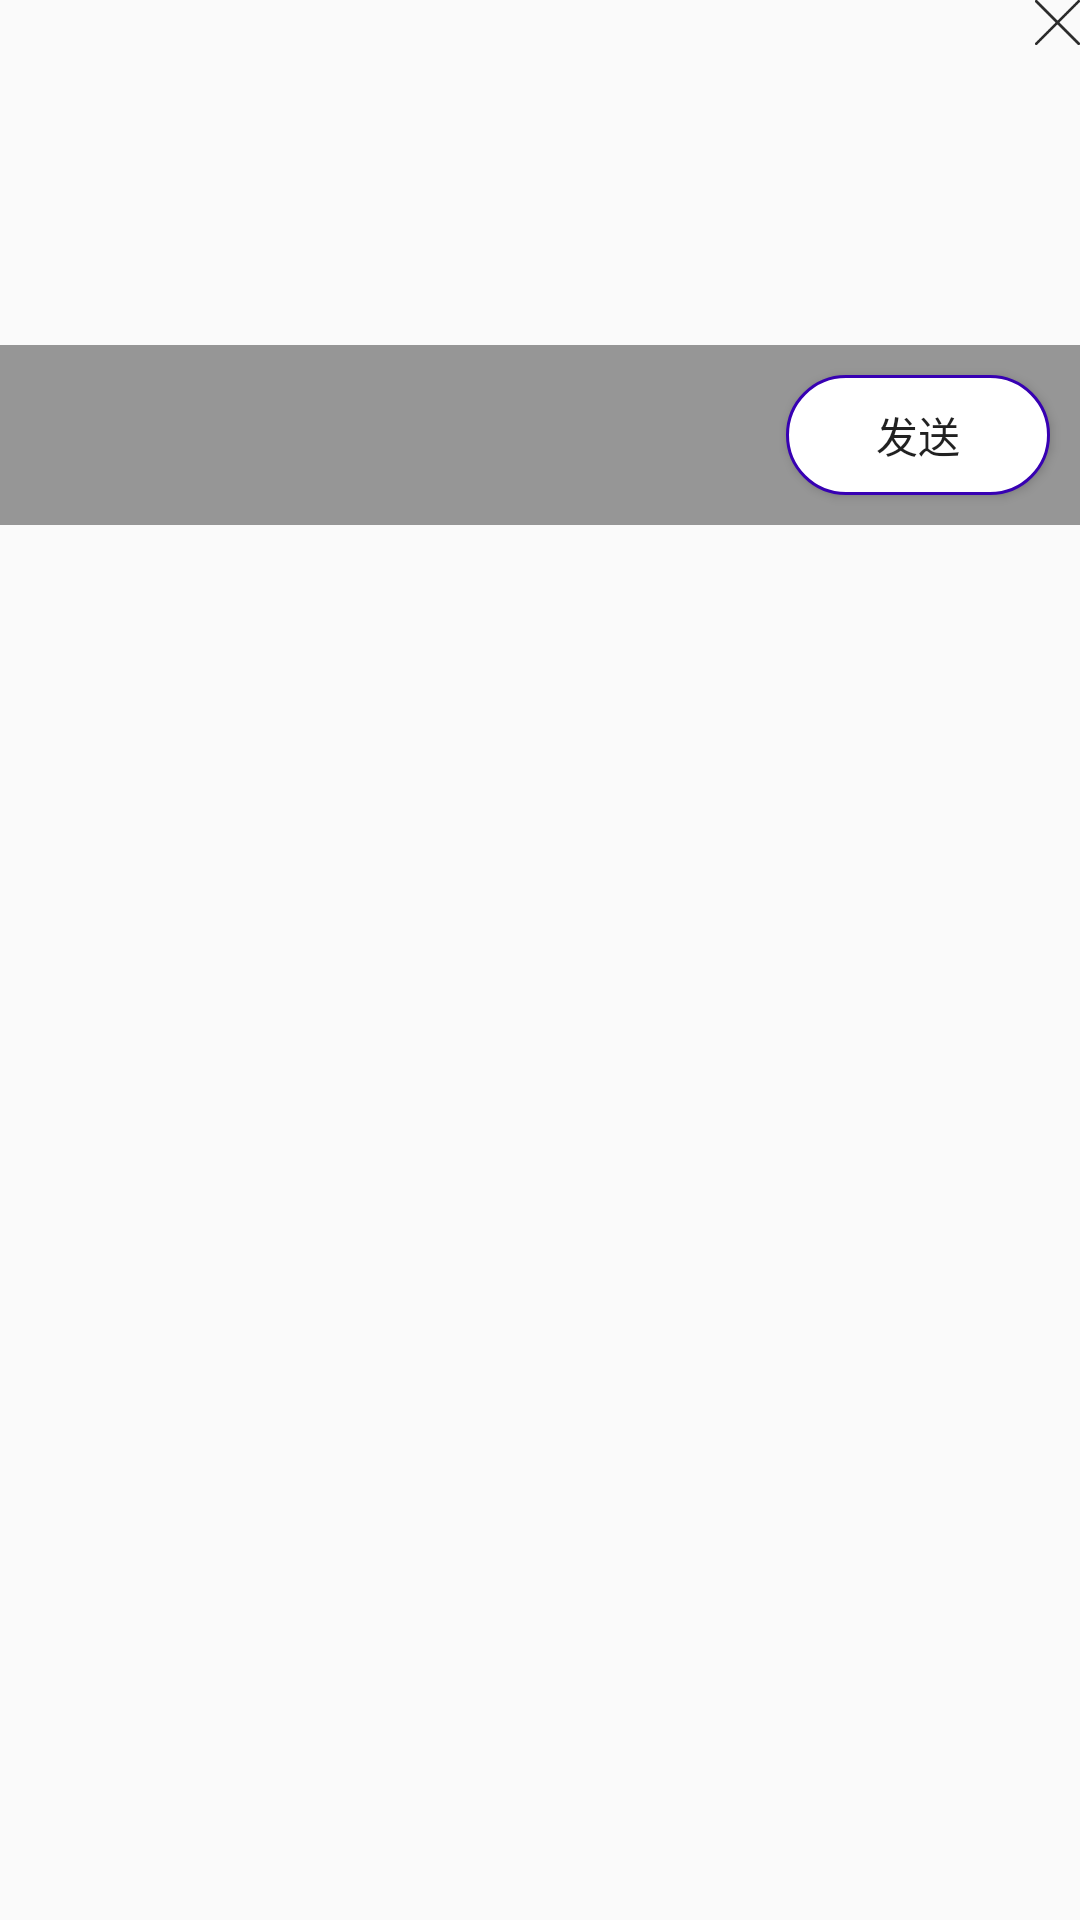

Point at icon controls on the screen. Image size 1080px x 1920px, points as [x,y].
giftclose: [1057,22]
